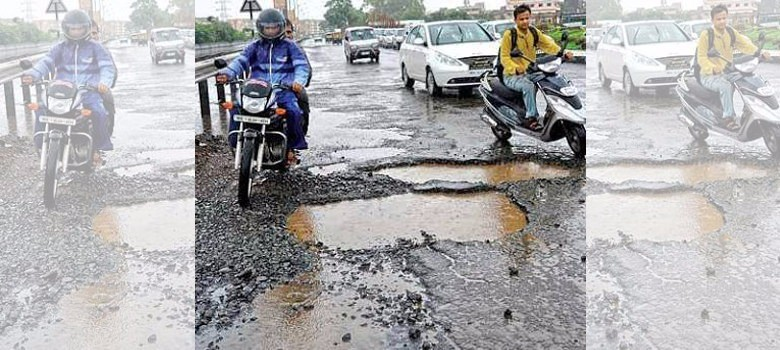pothole: (277, 181, 531, 254), (192, 277, 442, 348), (367, 143, 729, 186)
